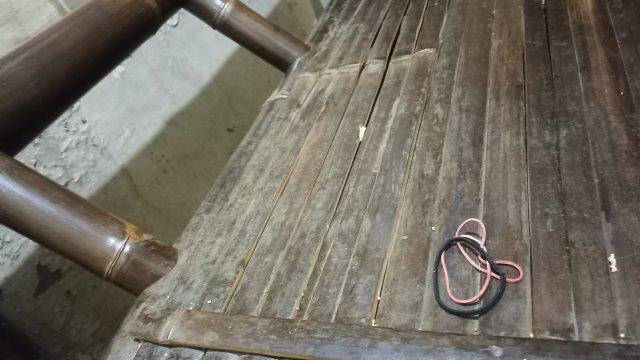karet: (433, 218, 523, 317)
